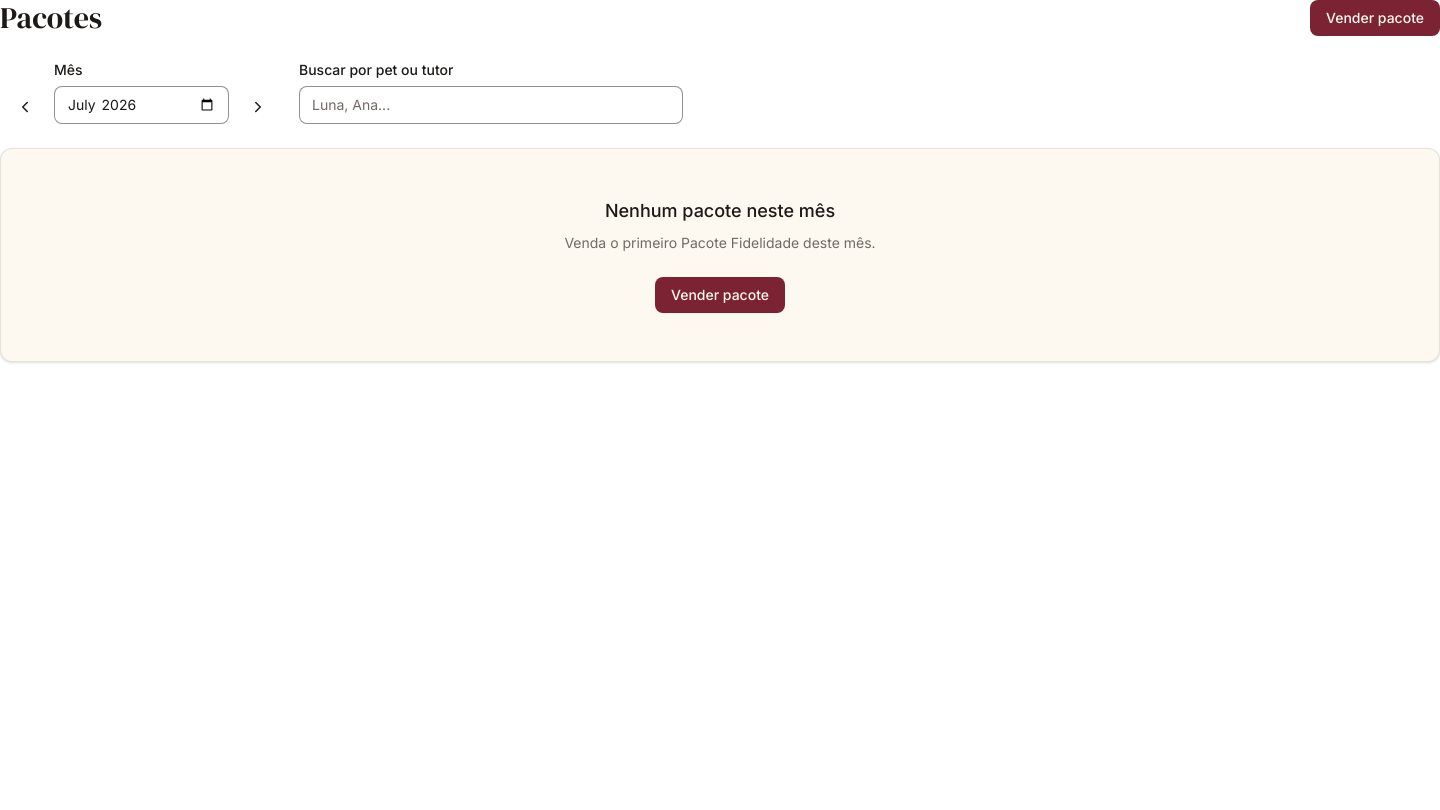
Test: Pacotes › vende um pacote pelo modal e fecha
Check: the text "Nenhum pacote neste mês" is shown, box [605, 197, 835, 225]
Step 1. Click the button "Vender pacote" in the row of "Pacotes" → (1375, 18), box [1310, 0, 1439, 36]
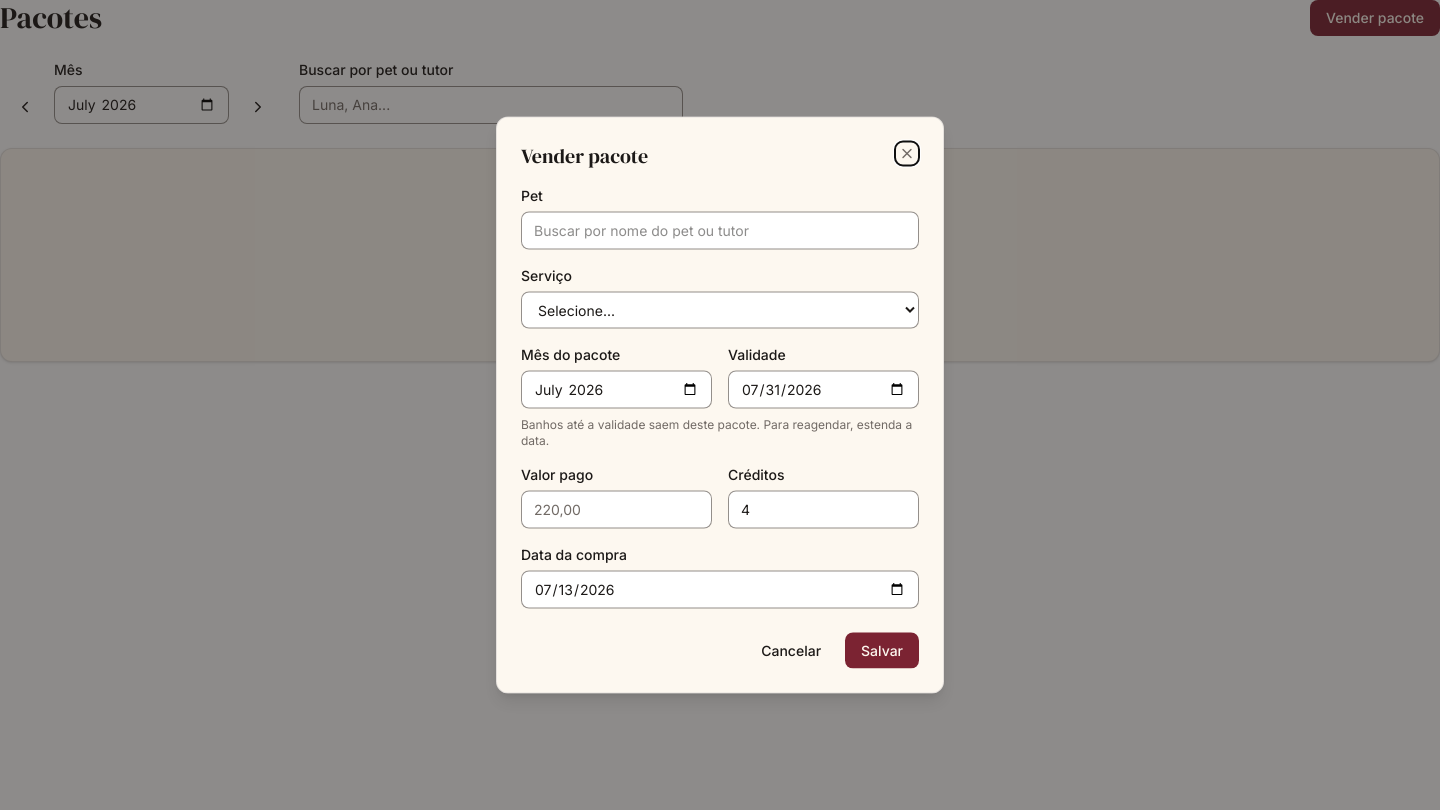
Step 2. Type "Luna" into the dropdown labelled "Pet" → (720, 230), box [521, 212, 919, 250]
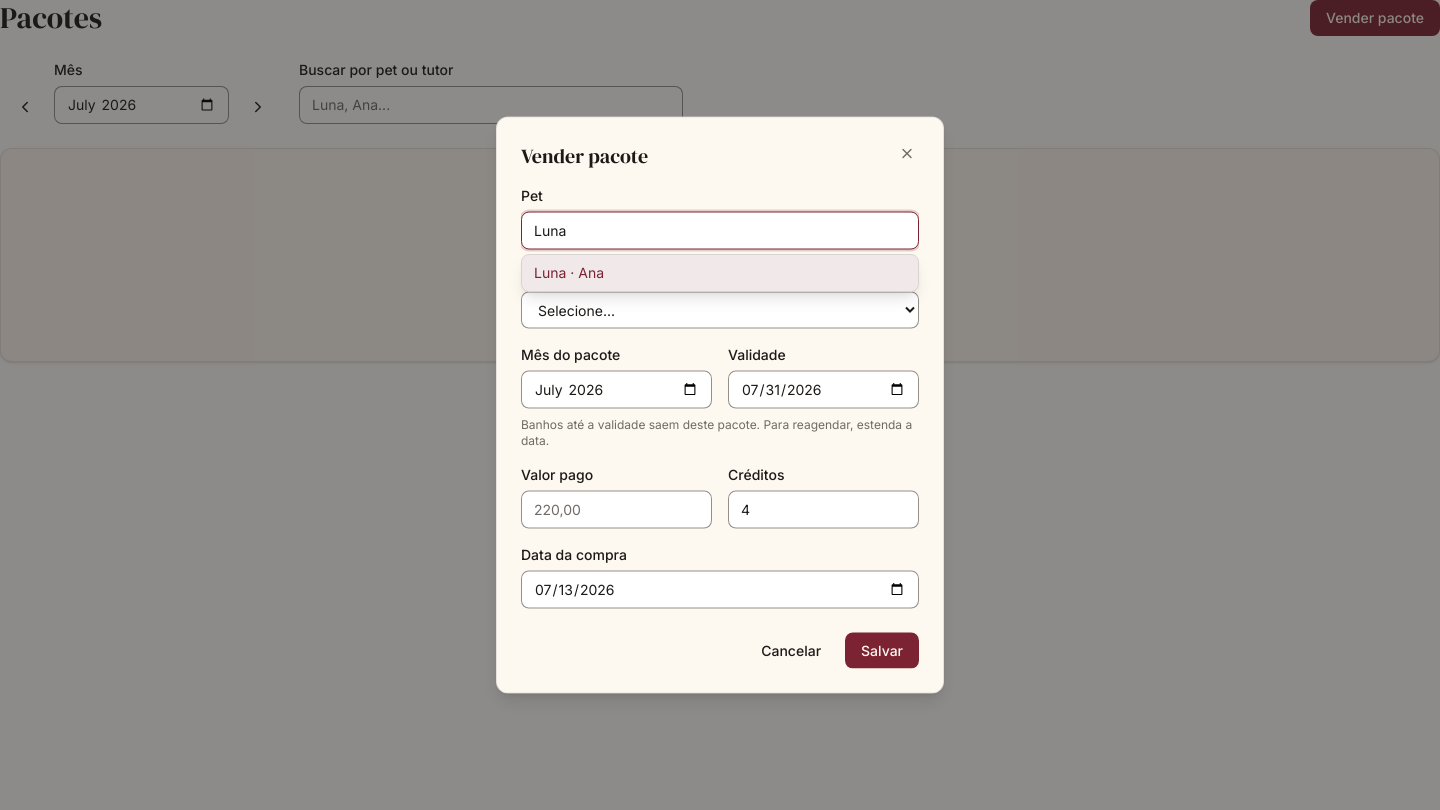
Check: the option "Luna · Ana" is shown
Step 3. Click the option "Luna · Ana" → (569, 272), box [522, 254, 918, 290]
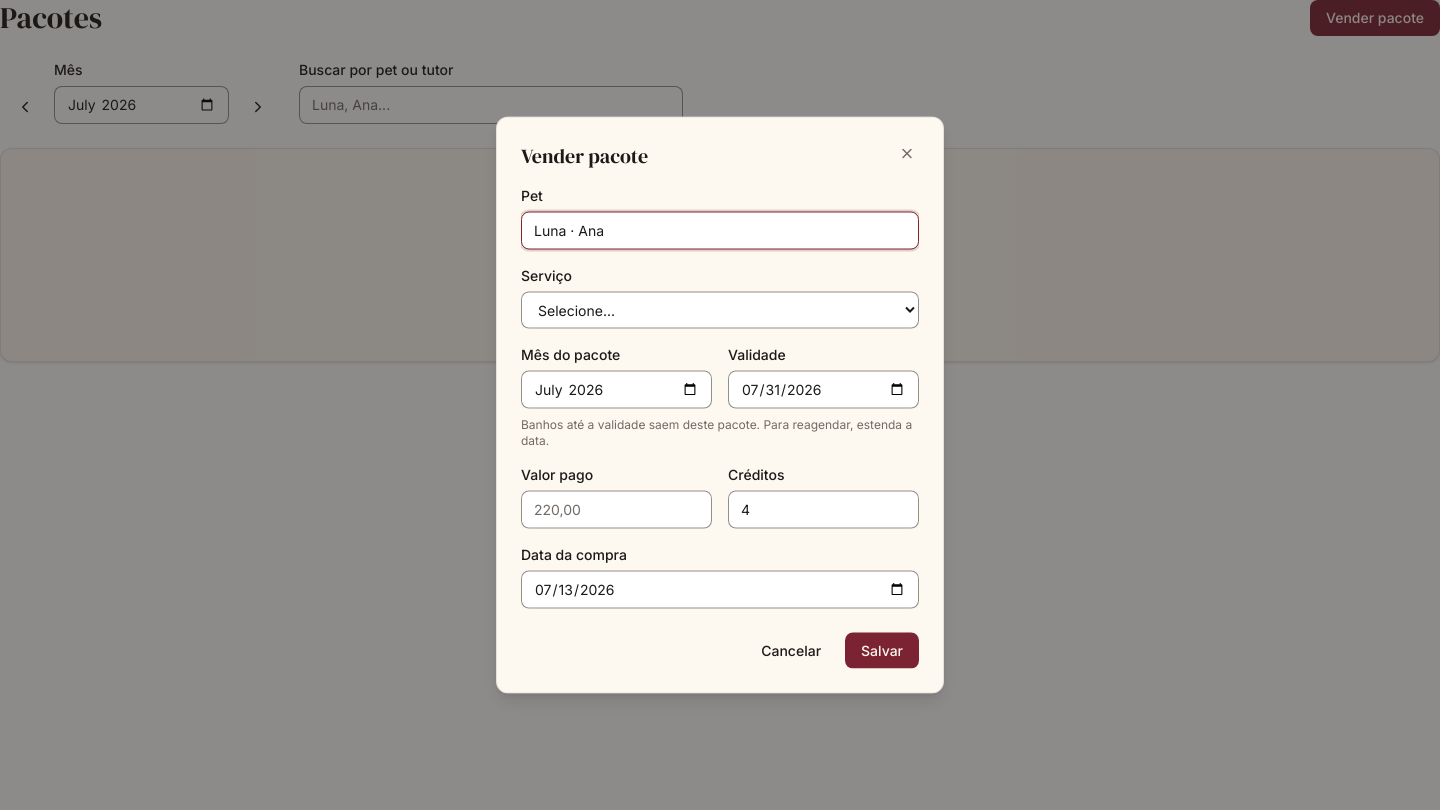
Step 4. Select "Pacote Fidelidade" in the dropdown labelled "Serviço" → (720, 310), box [521, 292, 919, 328]
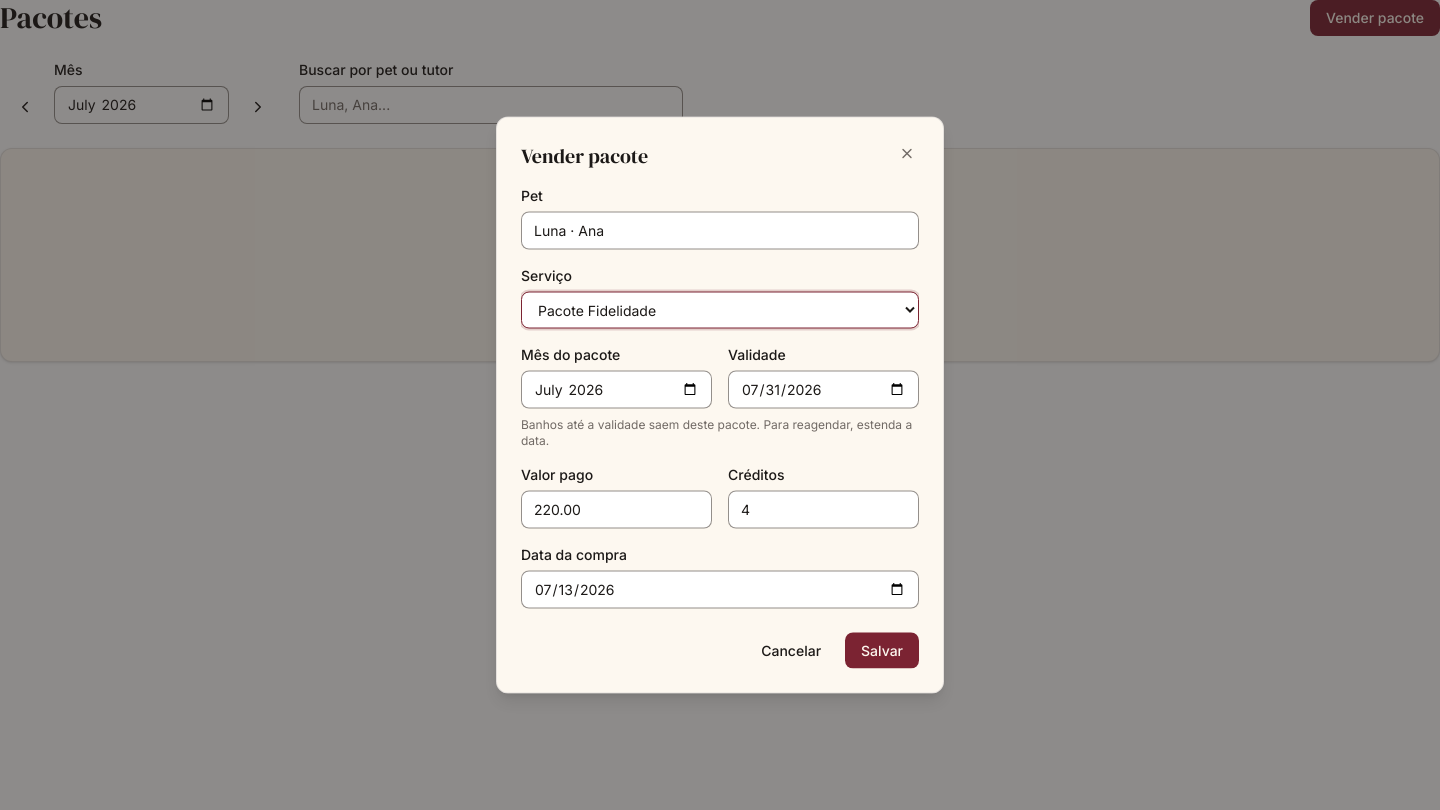
Check: the field labelled "Valor pago" holds "220.00", box [521, 490, 712, 528]
Step 5. Click the button "Salvar" → (882, 650), box [845, 632, 919, 668]
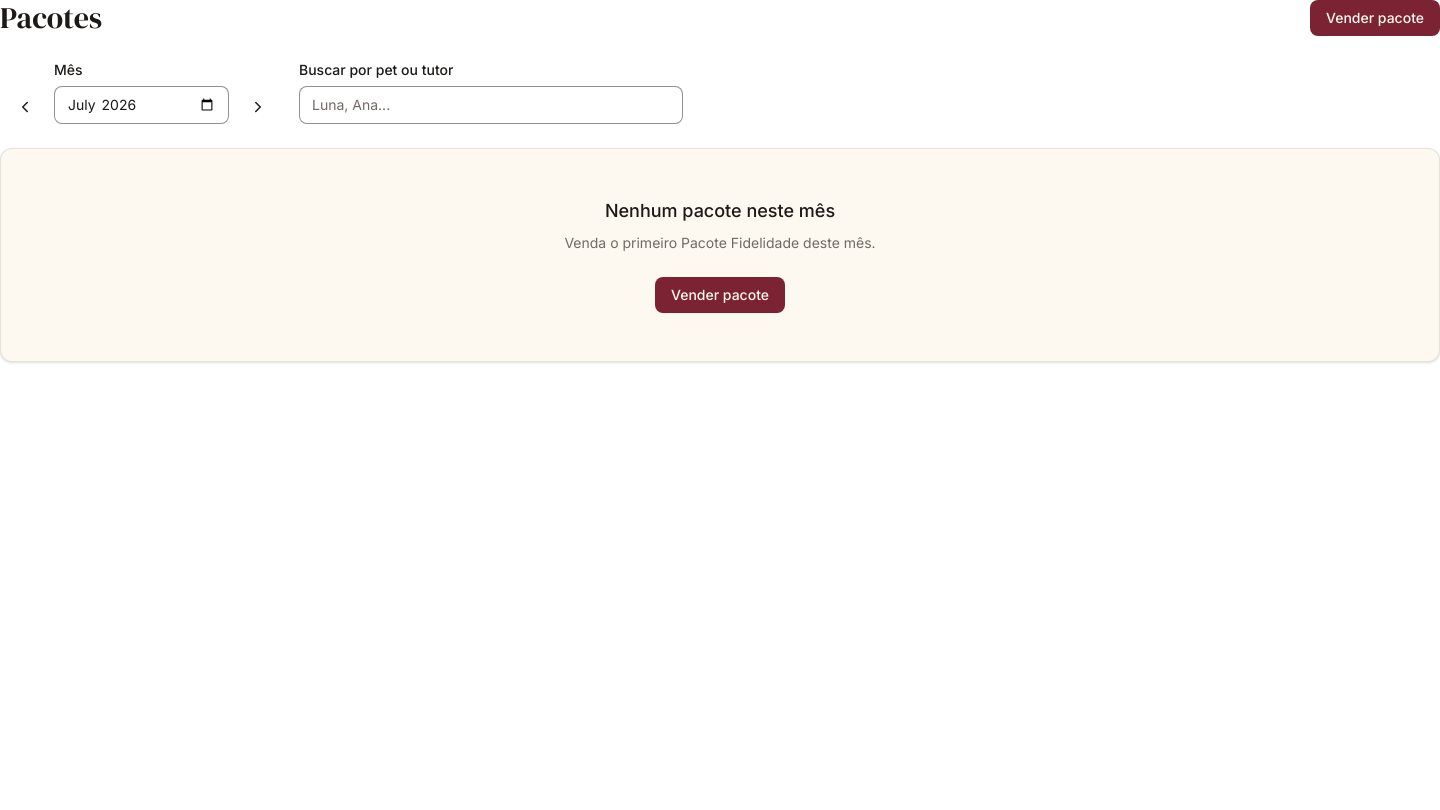
Check: the dialog is gone
